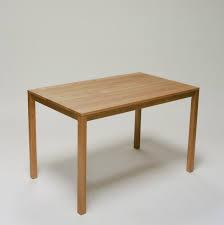Table: (25, 72, 200, 215)
